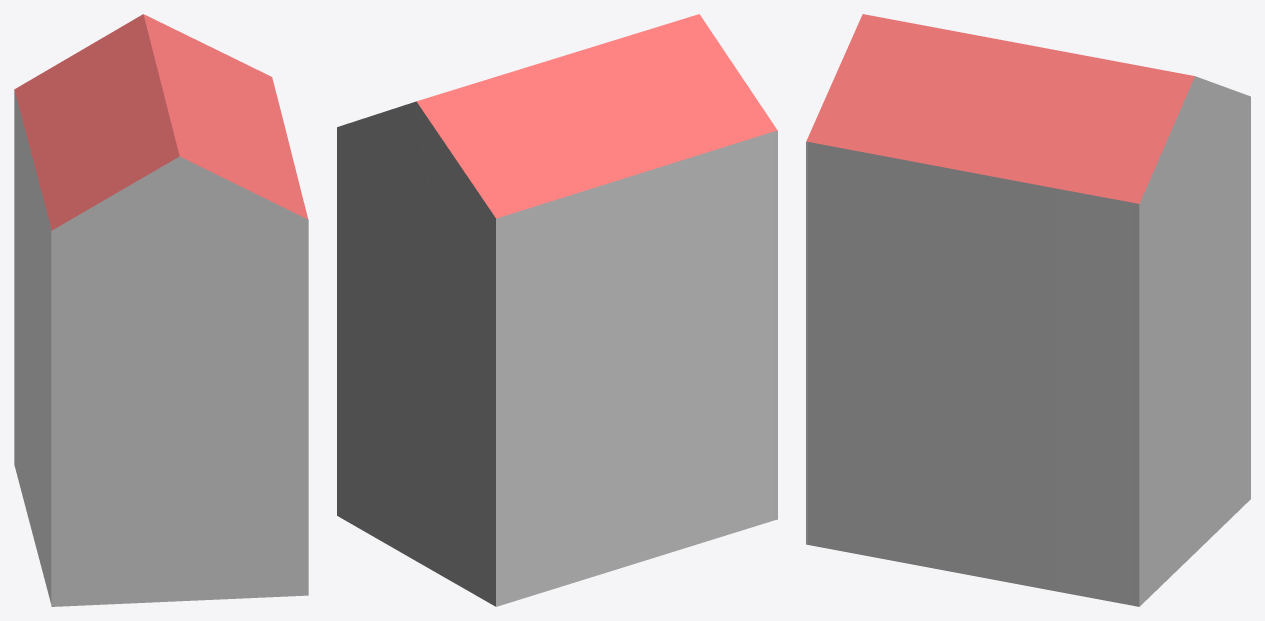
The model's file is DEBY_LOD2_4907146.gltf.
3 renders of one model, left to right at view 1: azimuth 30°, elevation 25°; view 2: azimuth 150°, elevation 25°; view 3: azimuth 270°, elevation 25°, orthographic. The views are drawn at different scales.
Visible parts, largest first — view 1: Z_UP; view 2: Z_UP; view 3: Z_UP.
Part boxes in pixels (left/top/right/bottom): Z_UP: left=14, top=14, right=308, bottom=606; Z_UP: left=337, top=14, right=777, bottom=606; Z_UP: left=806, top=14, right=1250, bottom=606.
Bounding box in the file's own units: 16.26 × 21.35 × 18.04.
